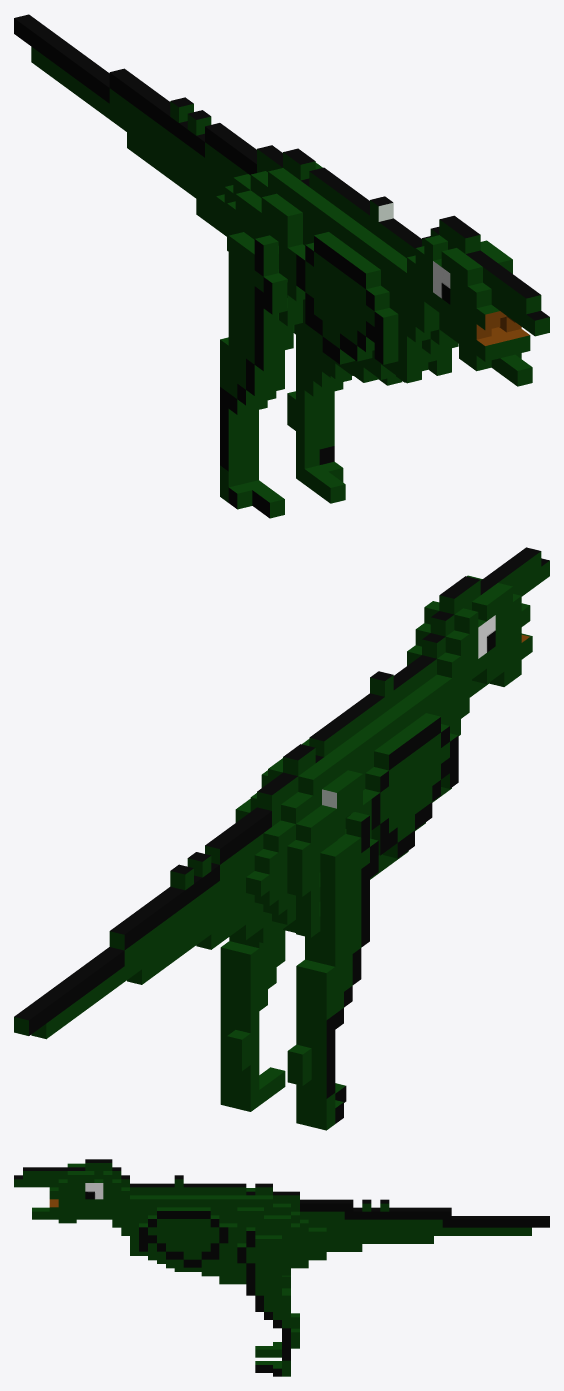
Rendered from tiranoVC.obj.
3 views of the same model, one above another, from view 1: azimuth 30°, elevation 25°; view 2: azimuth 150°, elevation 25°; view 3: azimuth 270°, elevation 25° (orthographic). The views are drawn at different scales.
Visible parts, largest first — view 1: Tyrannosaurus_2; view 2: Tyrannosaurus_2; view 3: Tyrannosaurus_2.
Part boxes in pixels (<box>): Tyrannosaurus_2: <box>14,14,549,518</box>; Tyrannosaurus_2: <box>14,547,549,1130</box>; Tyrannosaurus_2: <box>14,1159,549,1376</box>.
Size of the model in its own units: 3.86 by 13.69 by 32.87.
